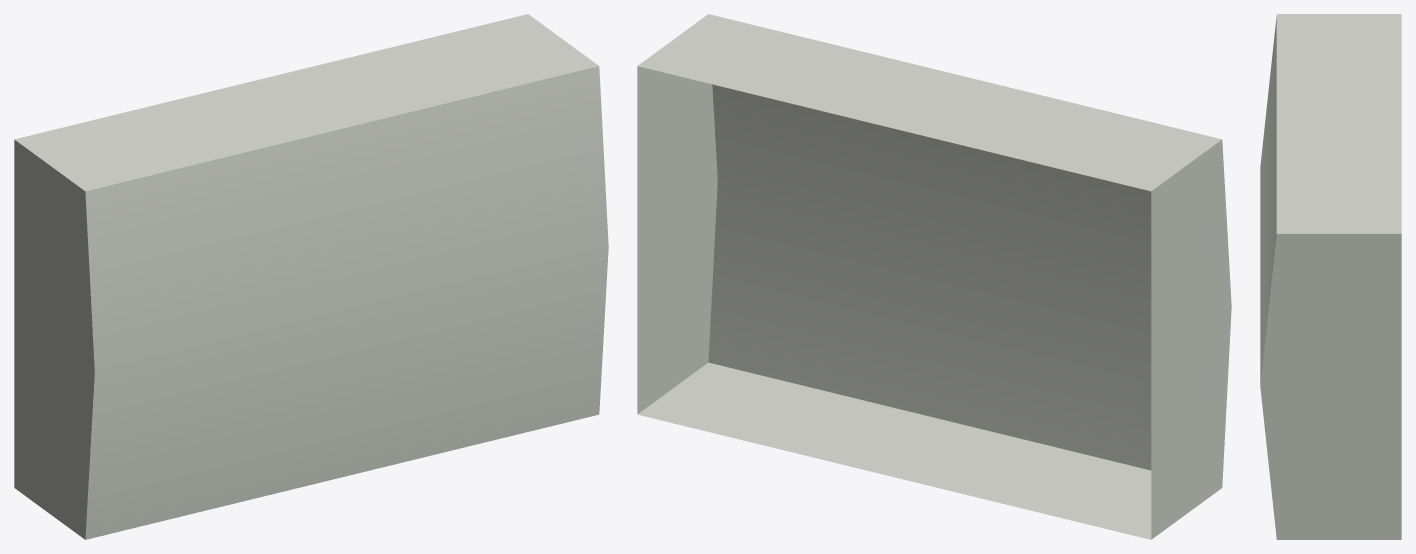
Rendered from soft_powerpoint.fbx.
3 views of the same model, side by side, from view 1: azimuth 30°, elevation 25°; view 2: azimuth 150°, elevation 25°; view 3: azimuth 270°, elevation 25° (orthographic). The views are drawn at different scales.
Visible parts, largest first — view 1: soft_powerpoint; view 2: soft_powerpoint; view 3: soft_powerpoint.
Part boxes in pixels (<box>): soft_powerpoint: <box>14,14,608,539</box>; soft_powerpoint: <box>637,14,1231,539</box>; soft_powerpoint: <box>1260,14,1401,539</box>.
Size of the model in its own units: 0.636 by 0.4122 by 0.1726.
